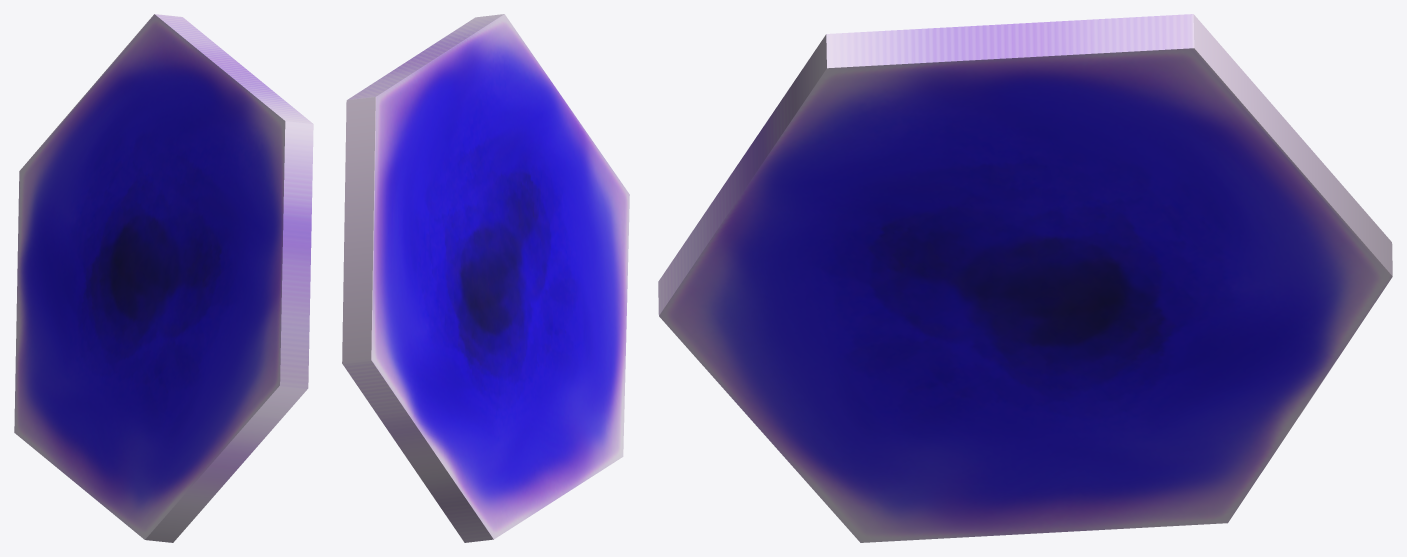
The model's file is FX_lfl_buff_dun_shuikuai.FBX.
The picture shows the model from 3 angles, left to right: view 1: azimuth 30°, elevation 25°; view 2: azimuth 150°, elevation 25°; view 3: azimuth 270°, elevation 25°; orthographic projection. The views are drawn at different scales.
Visible parts, largest first — view 1: 对象165; view 2: 对象165; view 3: 对象165.
Part boxes in pixels (x1=…): 对象165: x1=14, y1=14, x2=313, y2=542; 对象165: x1=342, y1=14, x2=629, y2=542; 对象165: x1=658, y1=14, x2=1392, y2=542.
Bounding box in the file's own units: 7.02 × 17.73 × 19.77.
